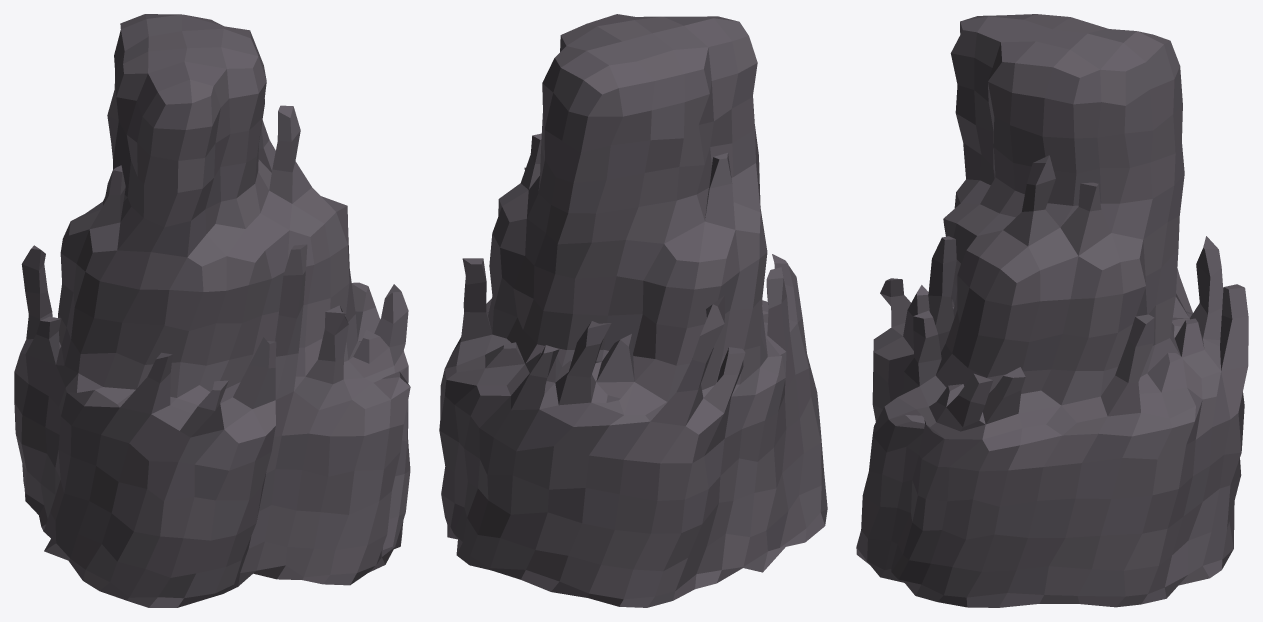
File: RockFormation01.fbx
The picture shows the model from 3 angles, left to right: view 1: azimuth 30°, elevation 25°; view 2: azimuth 150°, elevation 25°; view 3: azimuth 270°, elevation 25°; orthographic projection. The views are drawn at different scales.
Visible parts, largest first — view 1: Plane; view 2: Plane; view 3: Plane.
Part boxes in pixels (x1,y1,x2,y2): Plane: (14,14,410,607); Plane: (439,14,827,607); Plane: (856,14,1248,607).
Size of the model in its own units: 177 by 265 by 188.
